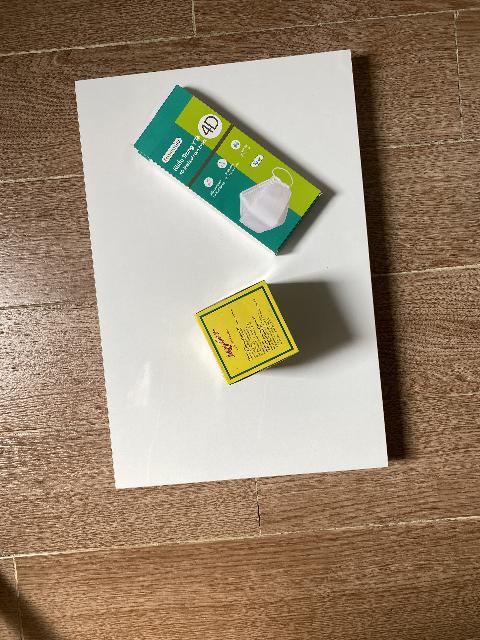Let-green_alcohol_wipes: (131, 83, 323, 256)
luong_kho: (194, 280, 299, 386)
